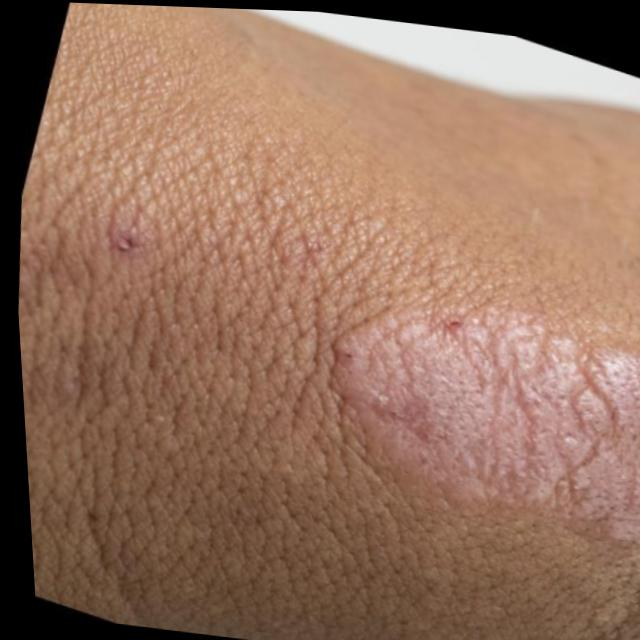Eczema: (330, 299, 620, 493)
